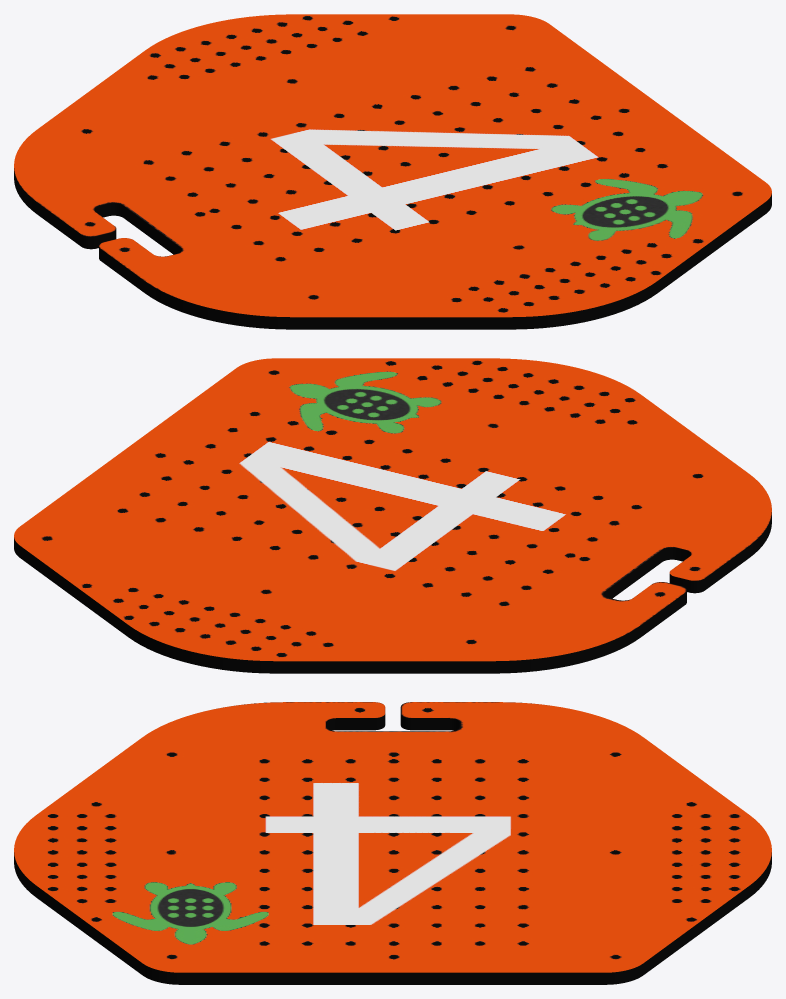
File: plate_top_orange.dae
3 renders of one model, top to bottom at view 1: azimuth 30°, elevation 25°; view 2: azimuth 150°, elevation 25°; view 3: azimuth 270°, elevation 25°, orthographic. The views are drawn at different scales.
Parts seen in each view (by area): view 1: _f_stack; view 2: _f_stack; view 3: _f_stack.
Part boxes in pixels (x1,y1,x2,y2): _f_stack: (14,14,771,329); _f_stack: (14,358,771,673); _f_stack: (14,702,771,984).
Bounding box in the file's own units: 0.2873 × 0.34 × 0.006.
1 material, 1 textured.
